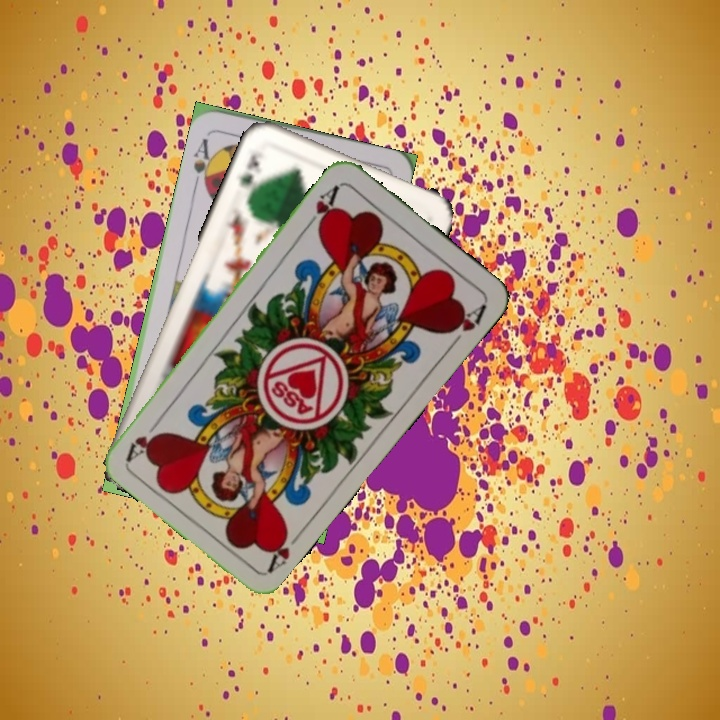GK: (234, 147, 266, 200)
HA: (263, 524, 306, 575), (302, 180, 343, 233)
SA: (189, 134, 218, 190)
